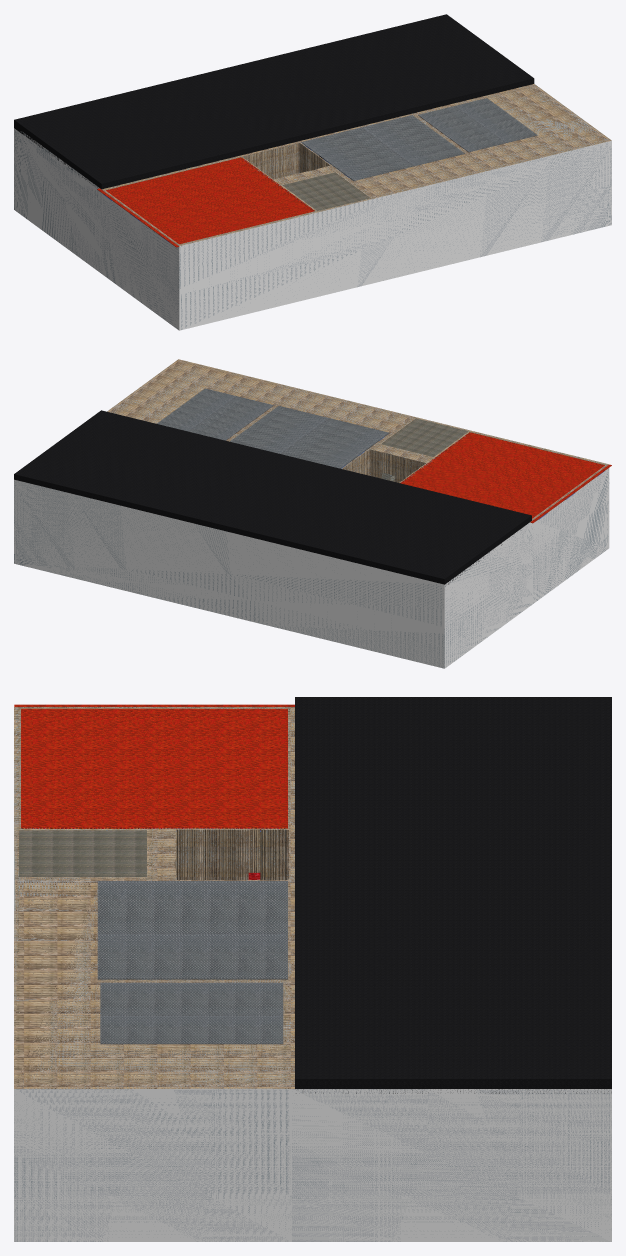
The model's file is room.dae.
3 renders of one model, top to bottom at view 1: azimuth 30°, elevation 25°; view 2: azimuth 150°, elevation 25°; view 3: azimuth 270°, elevation 25°, orthographic. The views are drawn at different scales.
Visible parts, largest first — view 1: Component_1 (×3), mazeRoof, Component2_1, Component1_1 (×2), Component3_1; view 2: Component_1 (×3), mazeRoof, Component2_1, Component1_1 (×2), Component3_1; view 3: Component_1 (×5), mazeRoof, Component2_1, Component1_1 (×2), Component3_1.
Part boxes in pixels (bbox=[...]): Component_1 (×3): bbox=[14, 84, 611, 330]; mazeRoof: bbox=[14, 14, 534, 189]; Component2_1: bbox=[97, 158, 313, 247]; Component1_1 (×2): bbox=[301, 98, 537, 180]; Component3_1: bbox=[282, 172, 369, 210]; Component_1 (×3): bbox=[14, 359, 609, 668]; mazeRoof: bbox=[14, 410, 531, 584]; Component2_1: bbox=[402, 432, 611, 523]; Component1_1 (×2): bbox=[157, 388, 388, 468]; Component3_1: bbox=[381, 418, 467, 456]; Component_1 (×5): bbox=[14, 707, 611, 1241]; mazeRoof: bbox=[295, 697, 611, 1093]; Component2_1: bbox=[14, 704, 294, 830]; Component1_1 (×2): bbox=[97, 881, 287, 1044]; Component3_1: bbox=[19, 830, 146, 876].
Bounding box in the file's own units: 3681 × 2419 × 726.
Materials: 18 (14 with a texture image).
